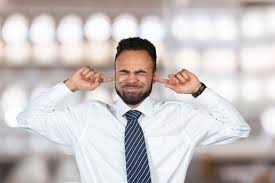F_shirt: (8, 77, 254, 182)
F_tie: (117, 106, 155, 183)
